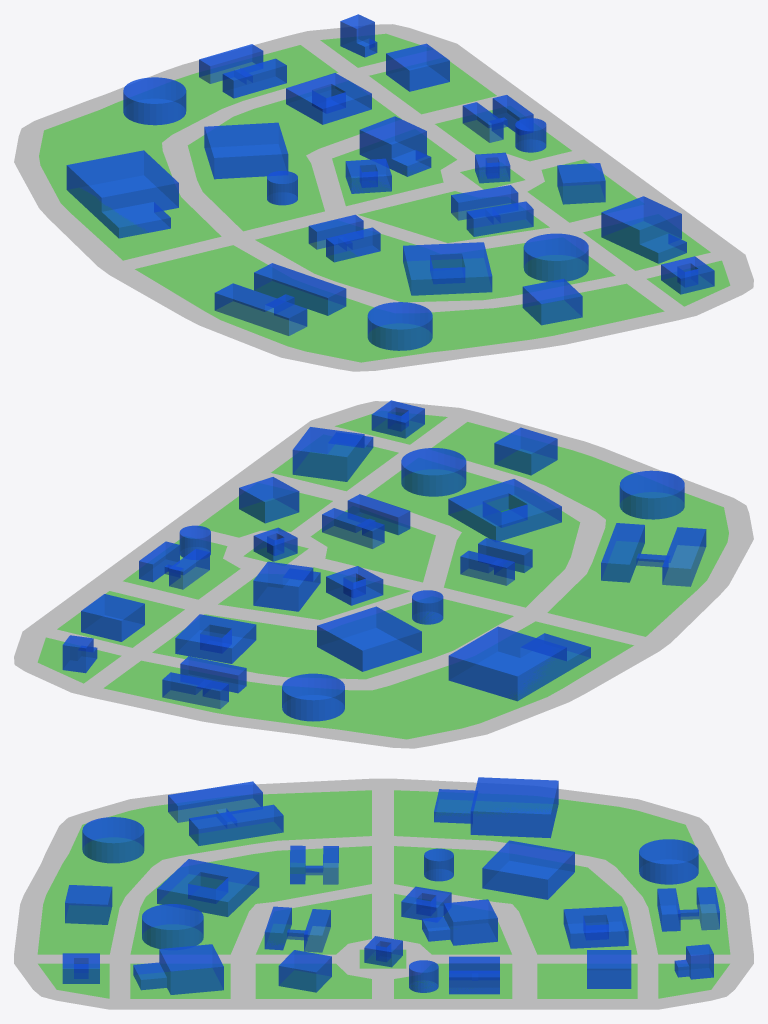
Rendered from StarkMap 1.fbx.
The picture shows the model from 3 angles, top to bottom: view 1: azimuth 30°, elevation 25°; view 2: azimuth 150°, elevation 25°; view 3: azimuth 270°, elevation 25°; orthographic projection. The views are drawn at different scales.
Visible parts, largest first — view 1: Ground, Building Two Block.001, Building H.001, Building Hole.003, Building Square.001, Building Two Block.002, Building H.002, Building H.003, Building Two Block, Building Hole.002, Building Cylinder.004, Building Cylinder.003 (+12 smaller); view 2: Ground, Building Two Block.001, Building Hole.003, Building Square.001, Building H.001, Building Two Block.002, Building H.003, Building H.002, Building Hole.002, Building Cylinder.003, Building Cylinder.004, Building Cylinder.002 (+12 smaller); view 3: Ground, Building Two Block.001, Building H.001, Building Square.001, Building Hole.003, Building Two Block.002, Building Two Block, Building Cylinder.004, Building Hole.002, Building Cylinder.003, Building Cylinder.002, Building H.003 (+12 smaller).
Part boxes in pixels (bbox=[...]): Ground: bbox=[14, 24, 753, 371]; Building Two Block.001: bbox=[66, 150, 178, 238]; Building H.001: bbox=[214, 263, 346, 335]; Building Hole.003: bbox=[403, 242, 492, 295]; Building Square.001: bbox=[204, 122, 288, 179]; Building Two Block.002: bbox=[601, 196, 686, 263]; Building H.002: bbox=[199, 44, 286, 98]; Building H.003: bbox=[451, 185, 533, 236]; Building Two Block: bbox=[359, 116, 431, 176]; Building Hole.002: bbox=[286, 73, 371, 124]; Building Cylinder.004: bbox=[367, 302, 432, 350]; Building Cylinder.003: bbox=[523, 233, 588, 281]; Ground: bbox=[14, 401, 753, 748]; Building Two Block.001: bbox=[448, 626, 590, 701]; Building Hole.003: bbox=[448, 479, 561, 541]; Building Square.001: bbox=[317, 606, 421, 671]; Building H.001: bbox=[601, 523, 706, 586]; Building Two Block.002: bbox=[292, 427, 373, 481]; Building H.003: bbox=[322, 494, 410, 548]; Building H.002: bbox=[162, 656, 246, 708]; Building Hole.002: bbox=[175, 614, 256, 663]; Building Cylinder.003: bbox=[401, 448, 466, 496]; Building Cylinder.004: bbox=[619, 470, 684, 519]; Building Cylinder.002: bbox=[282, 673, 344, 721]; Ground: bbox=[14, 778, 753, 1009]; Building Two Block.001: bbox=[434, 777, 558, 838]; Building H.001: bbox=[168, 781, 283, 845]; Building Square.001: bbox=[482, 840, 574, 899]; Building Hole.003: bbox=[157, 859, 259, 916]; Building Two Block.002: bbox=[133, 944, 223, 994]; Building Two Block: bbox=[422, 899, 497, 945]; Building Cylinder.004: bbox=[82, 817, 144, 863]; Building Hole.002: bbox=[563, 906, 628, 948]; Building Cylinder.003: bbox=[142, 904, 203, 948]; Building Cylinder.002: bbox=[639, 839, 698, 884]; Building H.003: bbox=[264, 906, 330, 952].
Size of the model in its own units: 147 by 7.02 by 199.
